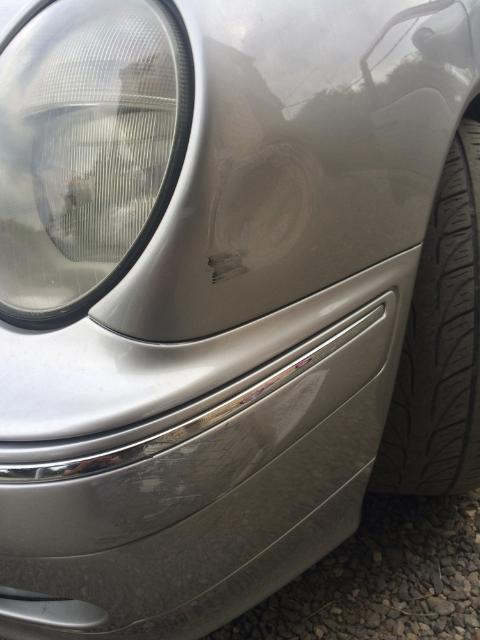dent: (215, 145, 315, 271)
scratch: (86, 367, 331, 549), (207, 249, 243, 284)
